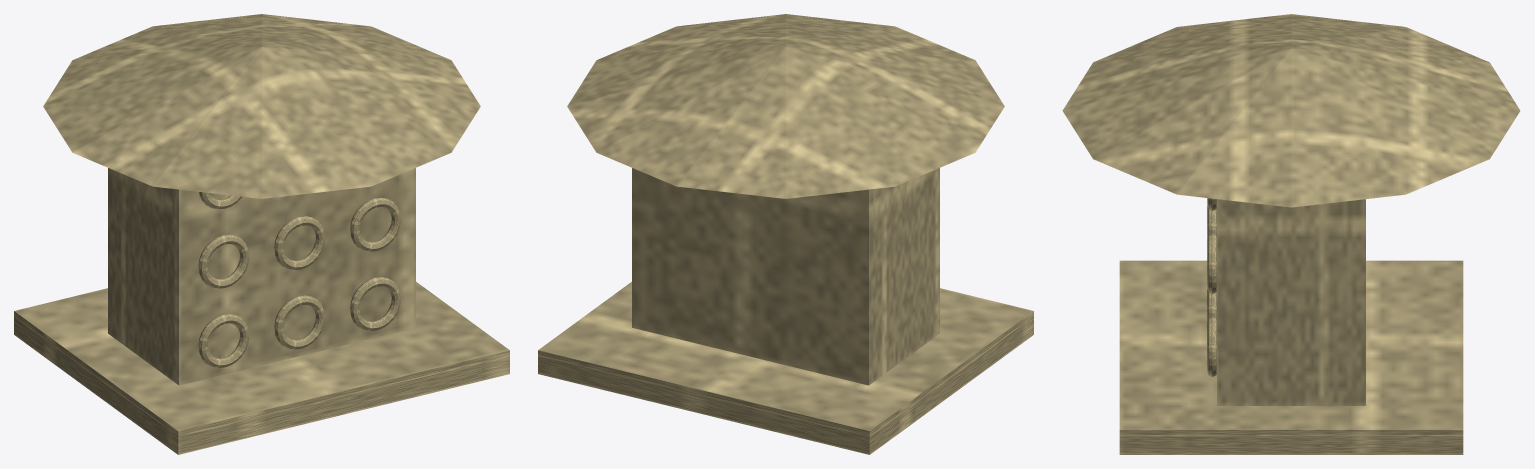
File: bone_ossuary_00.glb
3 renders of one model, left to right at view 1: azimuth 30°, elevation 25°; view 2: azimuth 150°, elevation 25°; view 3: azimuth 270°, elevation 25°, orthographic. The views are drawn at different scales.
Visible parts, largest first — view 1: Roof, Ossuary, Foundation, AncestorSeal.006, AncestorSeal.003, AncestorSeal.007, AncestorSeal.004, AncestorSeal, AncestorSeal.001; view 2: Roof, Ossuary, Foundation; view 3: Roof, Foundation, Ossuary, AncestorSeal.006, AncestorSeal.007.
Part boxes in pixels (x1,y1,x2,y2): Roof: [43, 14, 480, 198]; Ossuary: [108, 168, 415, 385]; Foundation: [14, 282, 509, 454]; AncestorSeal.006: [350, 277, 400, 330]; AncestorSeal.003: [274, 295, 325, 349]; AncestorSeal.007: [350, 197, 400, 251]; AncestorSeal.004: [274, 216, 325, 270]; AncestorSeal: [198, 314, 249, 367]; AncestorSeal.001: [198, 234, 249, 288]; Roof: [567, 14, 1004, 198]; Ossuary: [632, 168, 939, 385]; Foundation: [538, 282, 1033, 454]; Roof: [1062, 14, 1520, 207]; Foundation: [1119, 260, 1463, 454]; Ossuary: [1217, 199, 1365, 405]; AncestorSeal.006: [1207, 316, 1216, 376]; AncestorSeal.007: [1207, 233, 1216, 293].
Bounding box in the file's own units: 4 × 3.1 × 4.
1 material, 1 textured.
